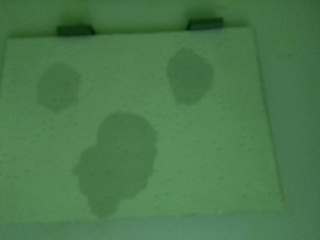Water_detected: (93, 127, 159, 196), (177, 57, 207, 94), (55, 76, 87, 108)
